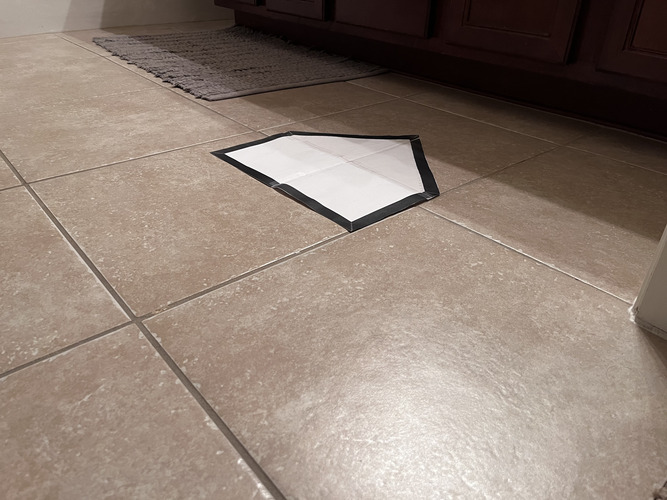homeplate: (208, 130, 439, 234)
